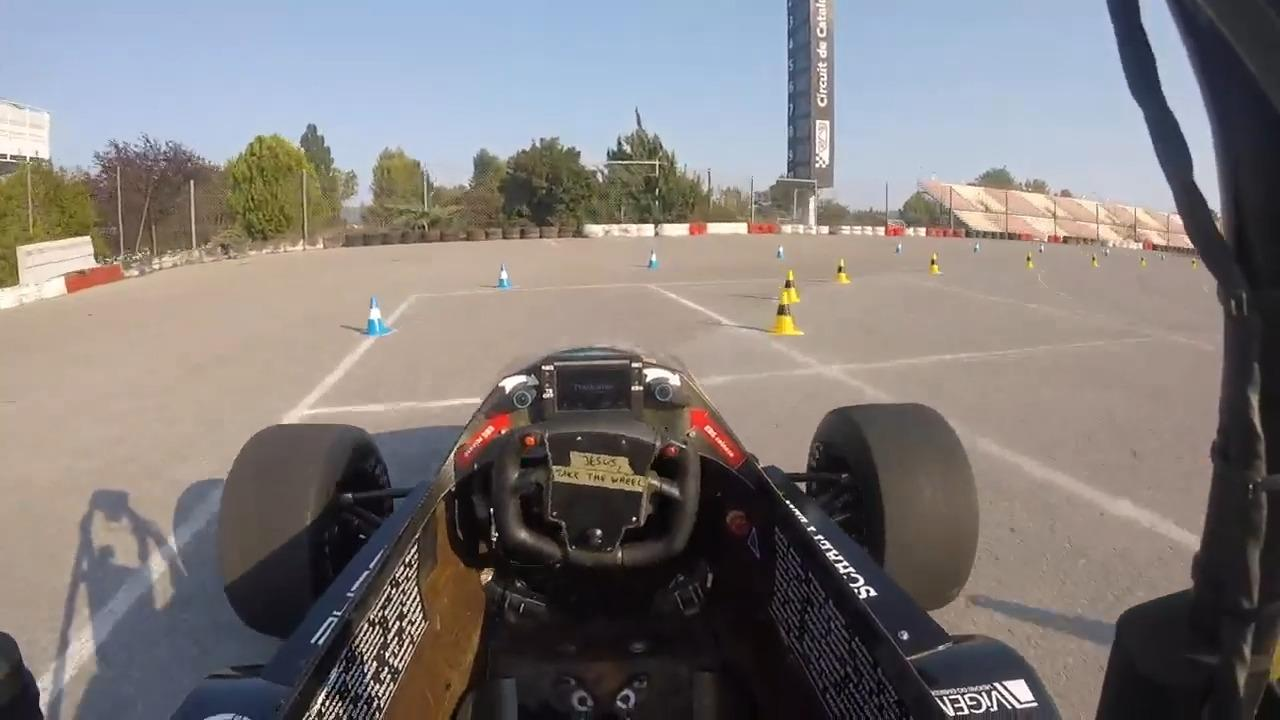blue_cone: (359, 296, 393, 336), (495, 263, 514, 289), (646, 248, 660, 271), (774, 242, 787, 260)
yellow_cone: (769, 291, 802, 337), (781, 269, 802, 303), (835, 259, 850, 286), (928, 252, 943, 277), (1025, 251, 1036, 269)
